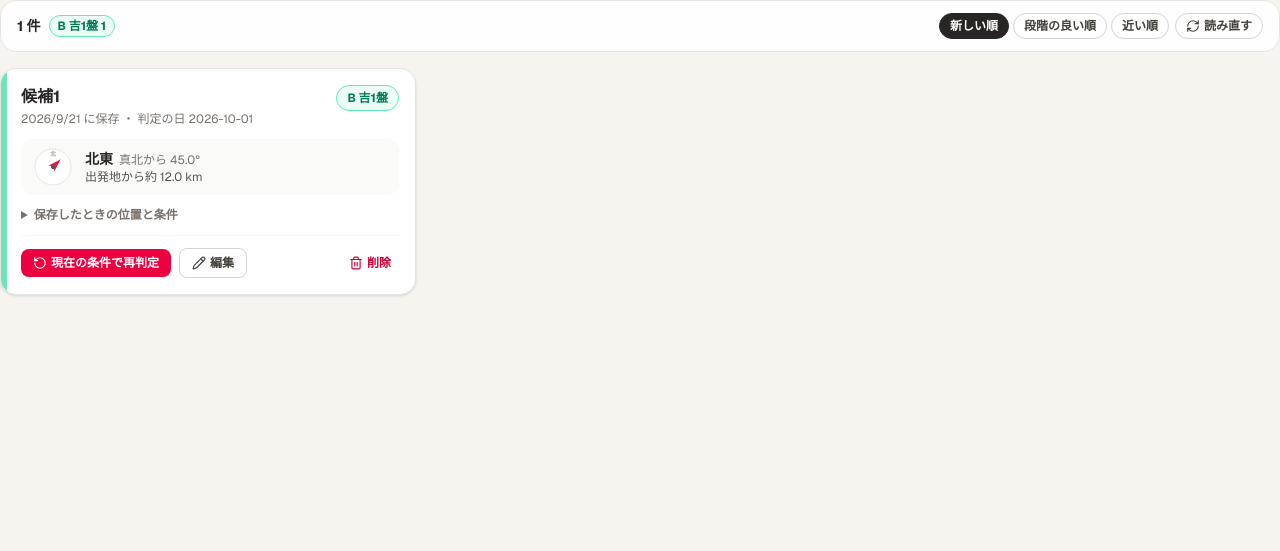
Scenario: 一覧 › 編集を押したときだけタイトルとメモの欄が開く
The image size is (1280, 551).
Expected: the element "候補1" is shown, [0, 68, 416, 295]
Expected: the field labelled "メモ" is not shown
Click the button "編集". click: (213, 263)
box: [179, 248, 247, 278]
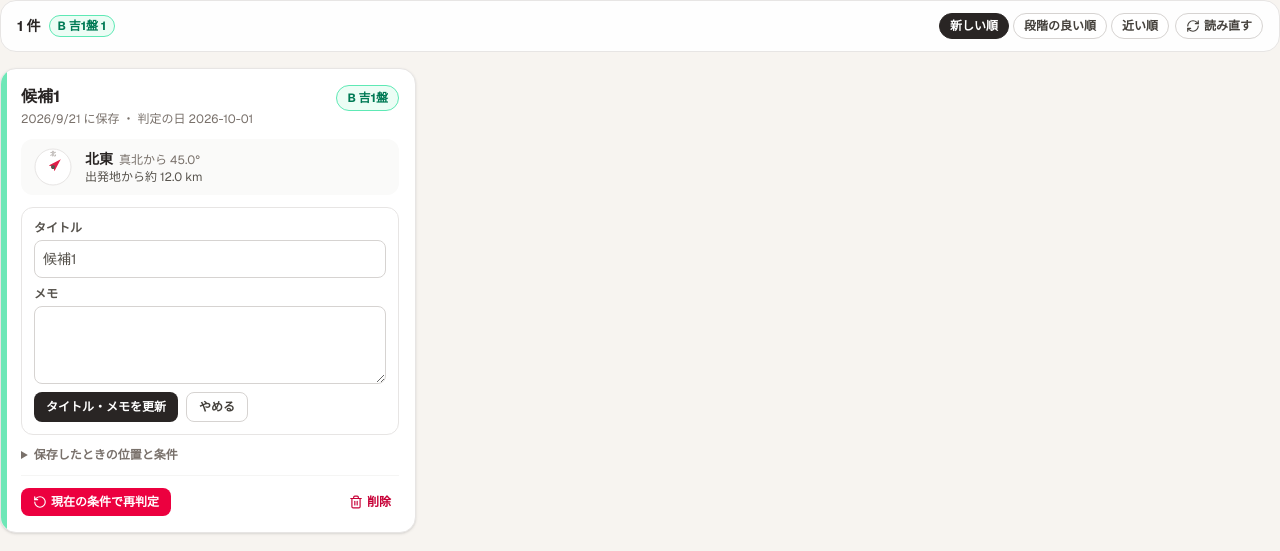
Result: the text box labelled "メモ" is shown at [34, 306, 386, 384]
Click the button "やめる". click: (217, 407)
box: [186, 392, 248, 422]
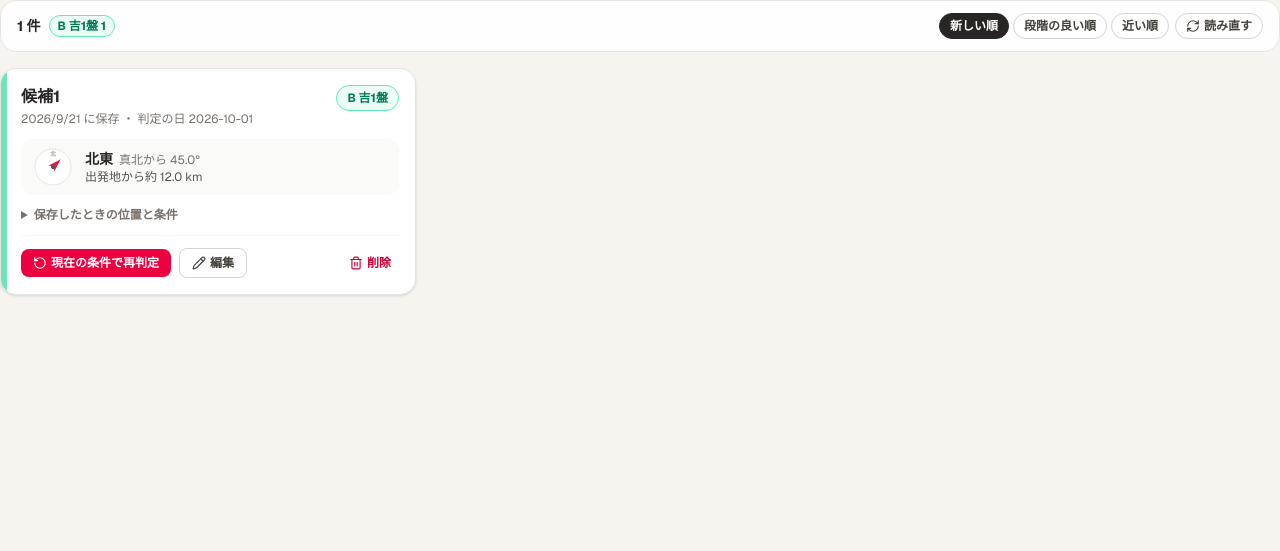
Result: the label labelled "メモ" is gone
